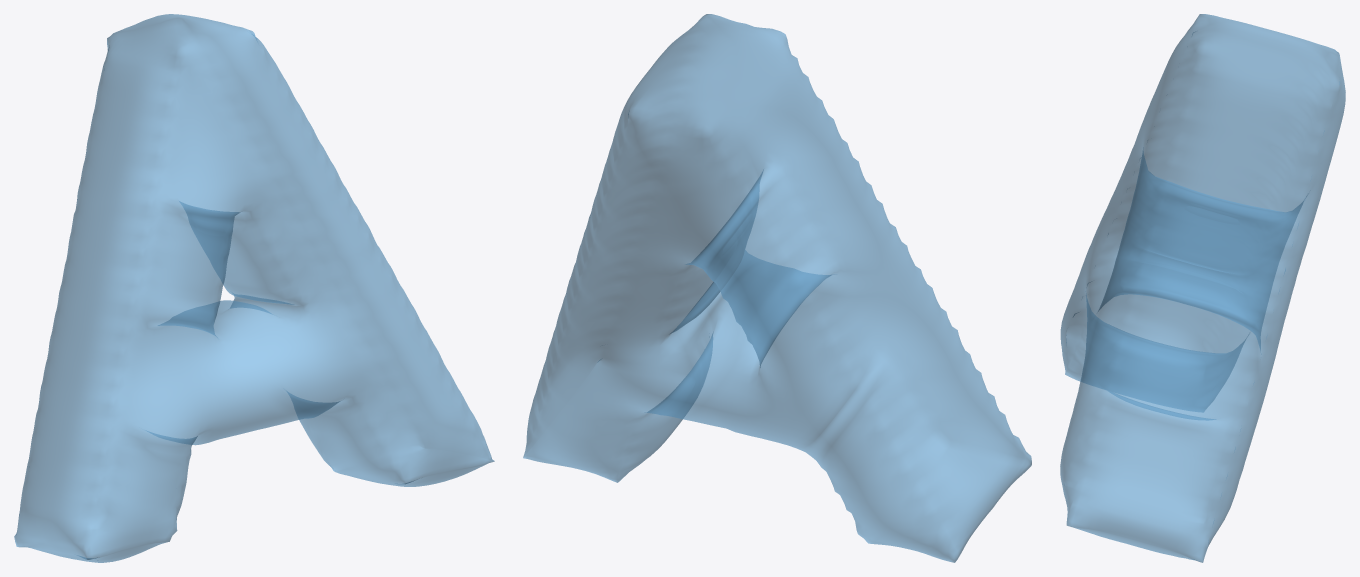
Rendered from abukva2.glb.
3 renders of one model, left to right at view 1: azimuth 30°, elevation 25°; view 2: azimuth 150°, elevation 25°; view 3: azimuth 270°, elevation 25°, orthographic. The views are drawn at different scales.
Parts seen in each view (by area): view 1: Text; view 2: Text; view 3: Text.
Boxes of the visible parts, x1,y1,x2,y2 form: Text: (14,14,494,562); Text: (523,14,1031,562); Text: (1060,14,1345,562).
Bounding box in the file's own units: 0.5562 × 0.5945 × 0.3457.
